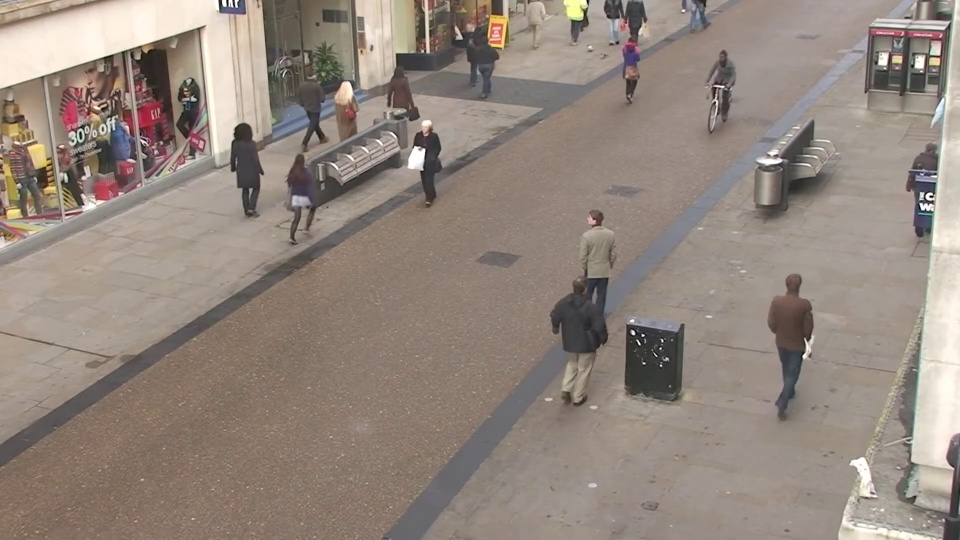pedestrian: (771, 257, 820, 391), (565, 264, 608, 400), (576, 204, 614, 324), (303, 139, 340, 240), (235, 119, 272, 213), (408, 118, 442, 215), (337, 77, 368, 160), (390, 61, 419, 141), (305, 61, 334, 141), (695, 54, 723, 134), (475, 32, 501, 104), (623, 28, 647, 100), (459, 20, 484, 88)
